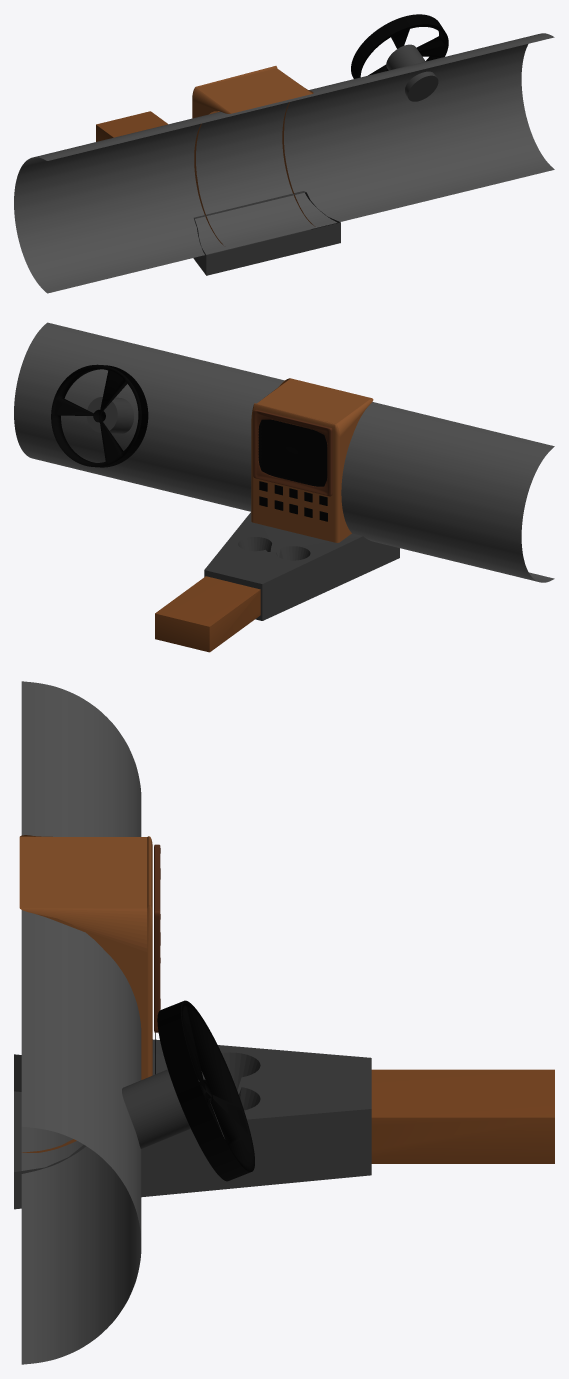
File: CarInterior.fbx
3 views of the same model, one above another, from view 1: azimuth 30°, elevation 25°; view 2: azimuth 150°, elevation 25°; view 3: azimuth 270°, elevation 25° (orthographic). The views are drawn at different scales.
Parts seen in each view (by area): view 1: Cylinder, Cube, Cube.001, Cylinder.001, Cylinder.002, Cube.002; view 2: Cylinder, Cube.001, Cube, Cube.003, Cube.002, Cylinder.001, Cylinder.002, Cube.009; view 3: Cylinder, Cube.001, Cube.002, Cube, Cylinder.001, Cylinder.002, Cube.003.
Boxes of the visible parts, bbox=[...] form: Cylinder: bbox=[14, 33, 554, 293]; Cube: bbox=[192, 66, 315, 245]; Cube.001: bbox=[193, 191, 340, 275]; Cylinder.001: bbox=[351, 14, 448, 78]; Cylinder.002: bbox=[386, 44, 438, 101]; Cube.002: bbox=[96, 111, 167, 141]; Cylinder: bbox=[14, 322, 554, 582]; Cube.001: bbox=[204, 512, 399, 620]; Cube: bbox=[251, 378, 373, 542]; Cube.003: bbox=[253, 409, 332, 496]; Cube.002: bbox=[155, 576, 260, 652]; Cylinder.001: bbox=[51, 364, 148, 467]; Cylinder.002: bbox=[86, 397, 133, 433]; Cube.009: bbox=[259, 481, 327, 521]; Cylinder: bbox=[21, 681, 141, 1364]; Cube.001: bbox=[14, 1039, 371, 1209]; Cube.002: bbox=[371, 1069, 554, 1163]; Cube: bbox=[19, 835, 152, 1152]; Cylinder.001: bbox=[157, 1000, 254, 1181]; Cylinder.002: bbox=[122, 1069, 199, 1148]; Cube.003: bbox=[154, 844, 160, 1032].
Size of the model in its own units: 31.96 by 9.97 by 16.4.
